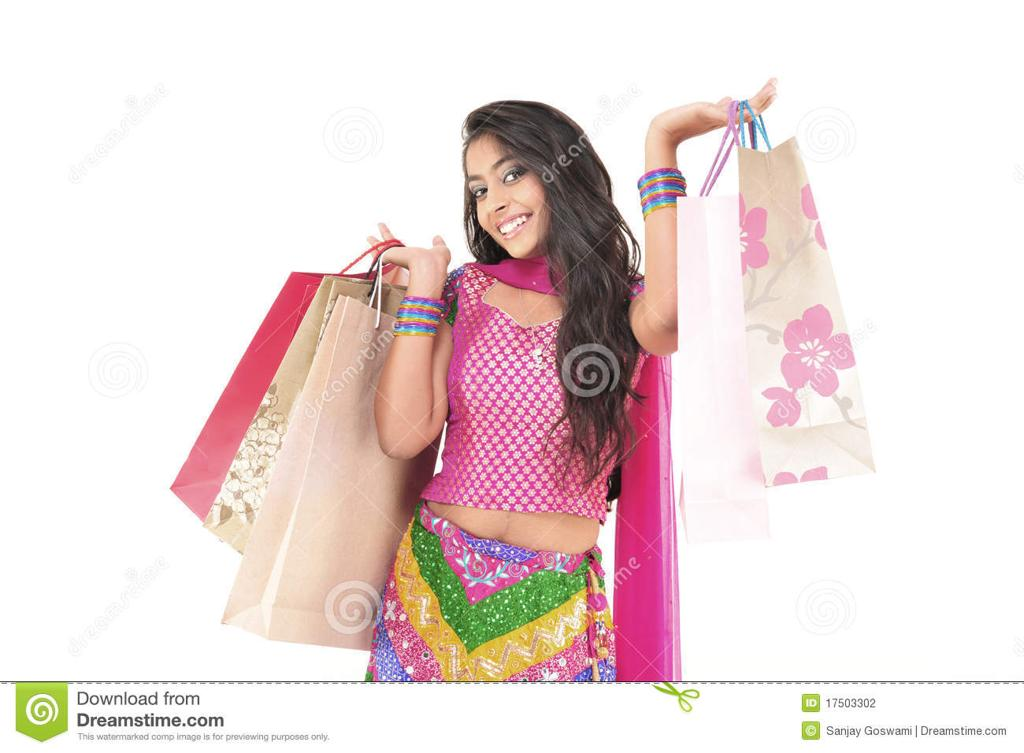face: (464, 124, 552, 258)
